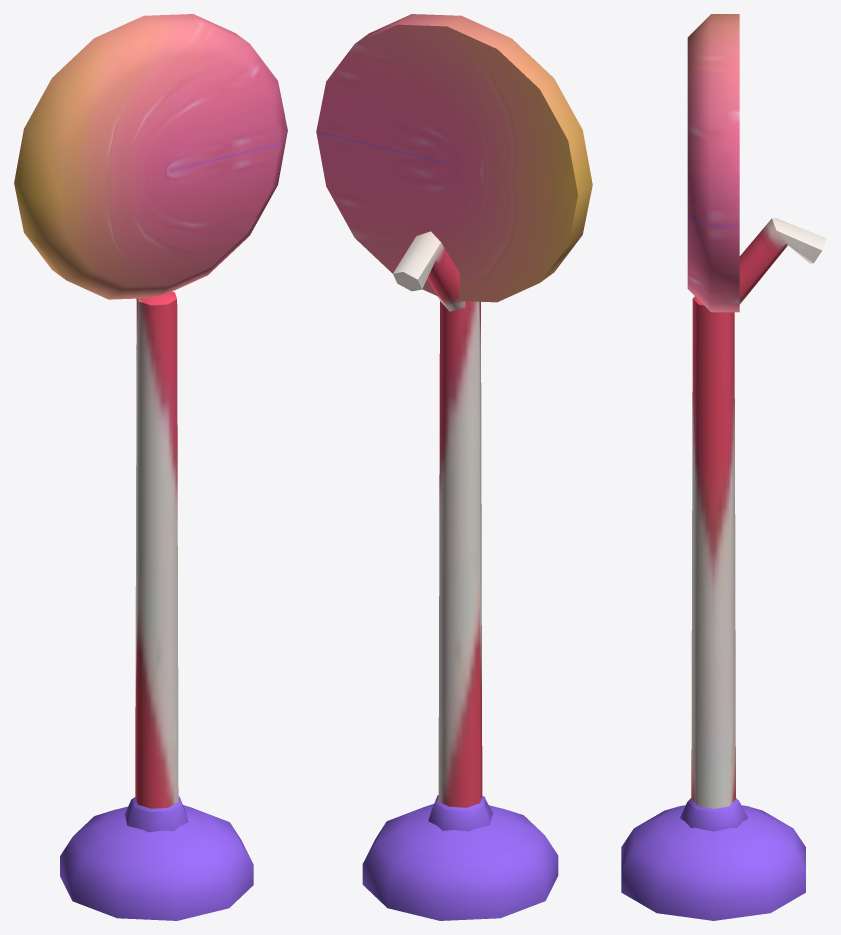
File: LollipopLamp.glb
The picture shows the model from 3 angles, left to right: view 1: azimuth 30°, elevation 25°; view 2: azimuth 150°, elevation 25°; view 3: azimuth 270°, elevation 25°; orthographic projection.
Parts seen in each view (by area): view 1: Pop, Pole, Base; view 2: Pop, Pole, Base; view 3: Pole, Base, Pop.
Part boxes in pixels (<box>): Pop: <box>14,14,287,299</box>; Pole: <box>135,291,178,808</box>; Base: <box>60,796,253,920</box>; Pop: <box>316,14,592,302</box>; Pole: <box>393,231,482,807</box>; Base: <box>362,795,558,920</box>; Pole: <box>691,218,826,808</box>; Base: <box>621,798,805,920</box>; Pop: <box>687,14,739,312</box>.
Size of the model in its own units: 4 by 12.6 by 2.75.
Materials: 3 (3 with a texture image).
